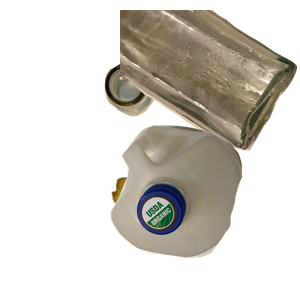glass: (120, 10, 300, 153)
metal: (102, 60, 252, 169)
plastic: (108, 123, 300, 300)
trash: (109, 175, 279, 300)
